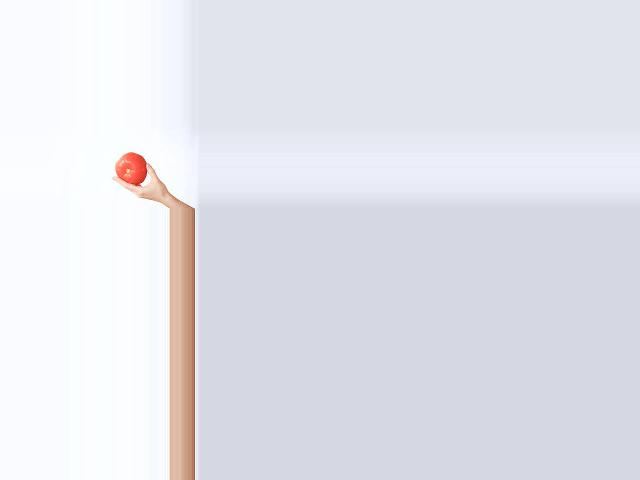tomato: (114, 152, 146, 184)
